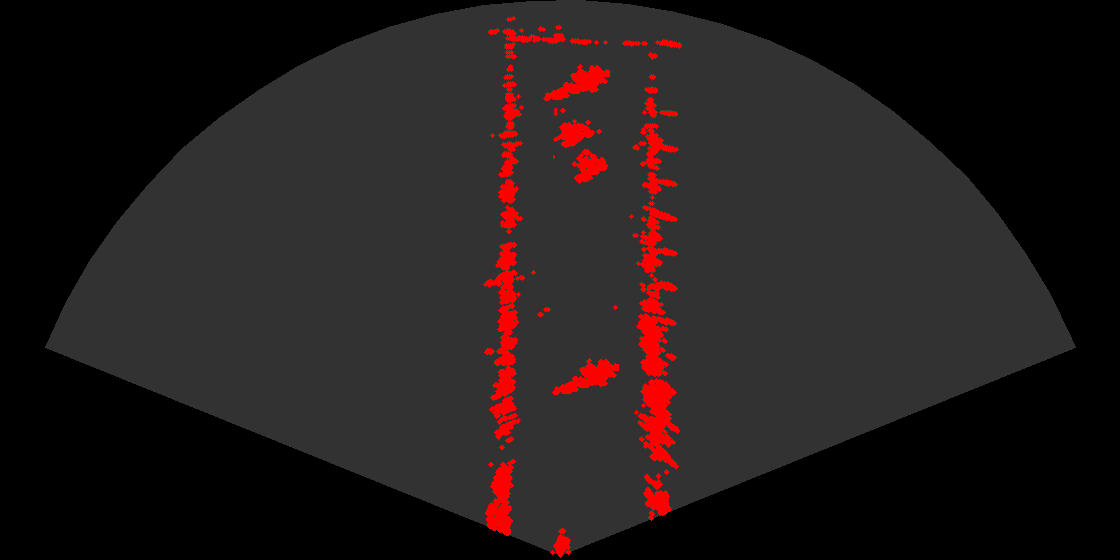cage: (553, 108, 616, 192)
frogman: (551, 352, 619, 399), (542, 58, 610, 105)
